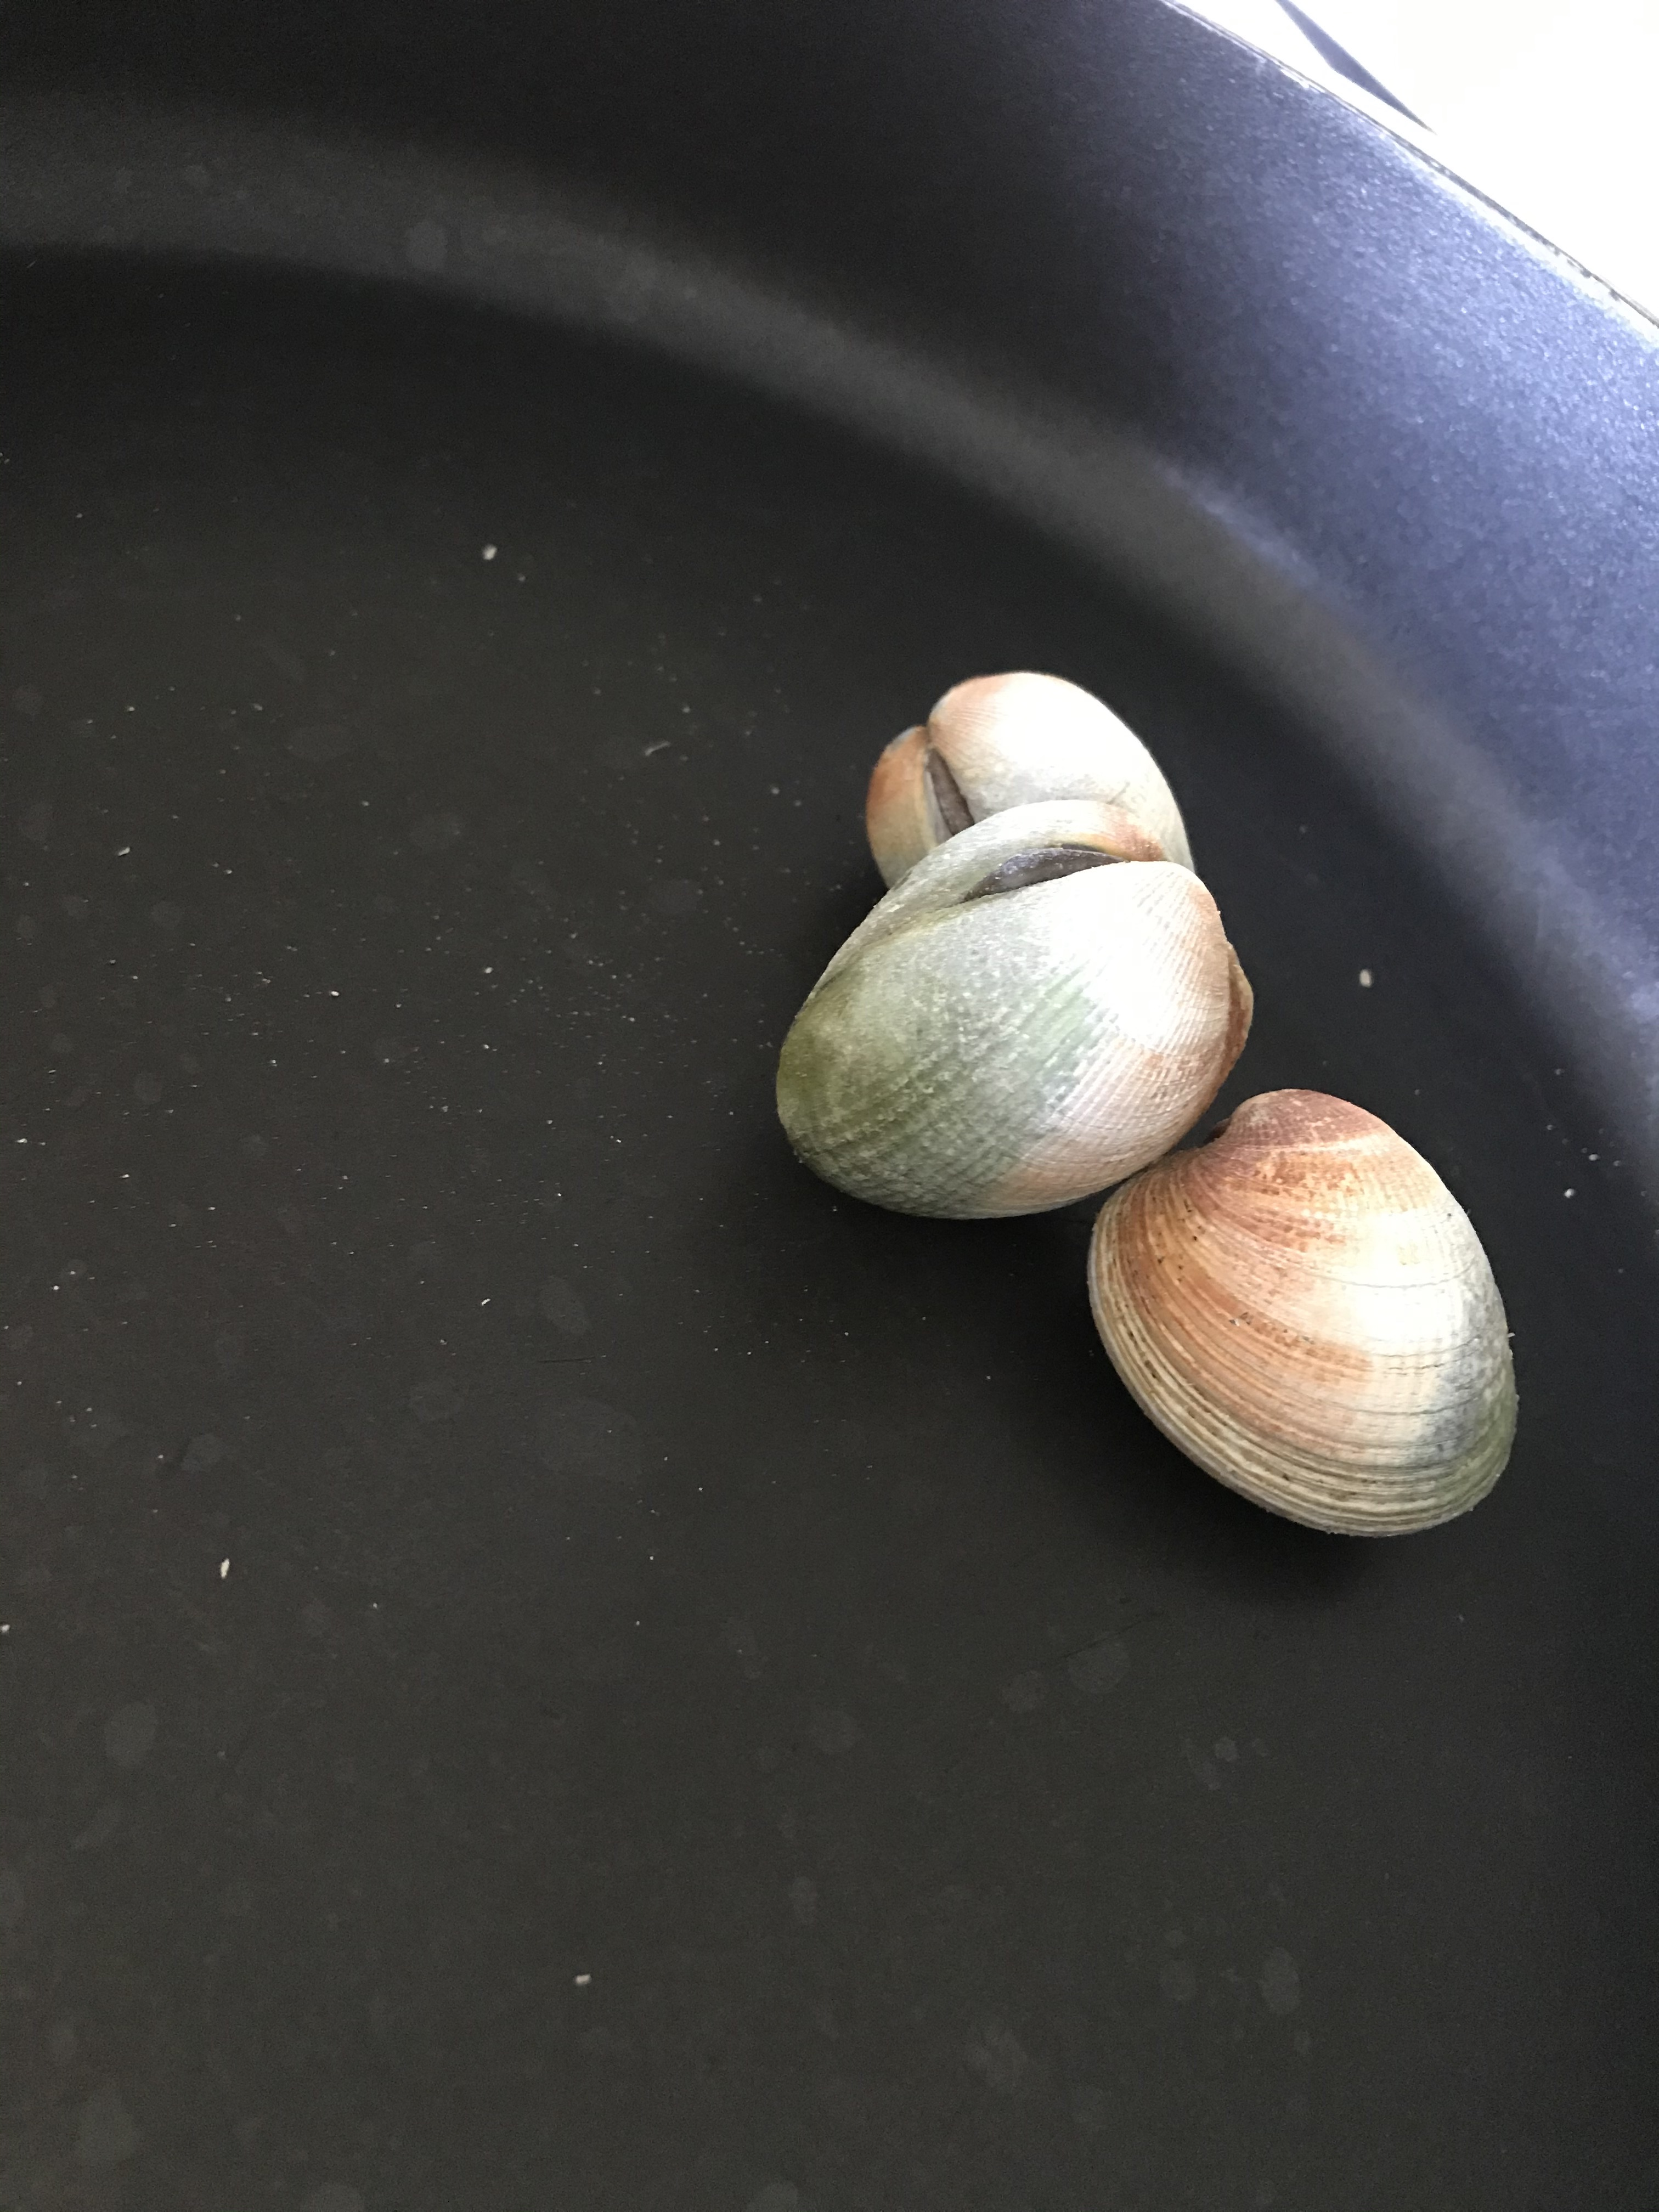cockle: (767, 798, 1272, 1240), (1091, 1082, 1527, 1545), (861, 664, 1209, 900)
